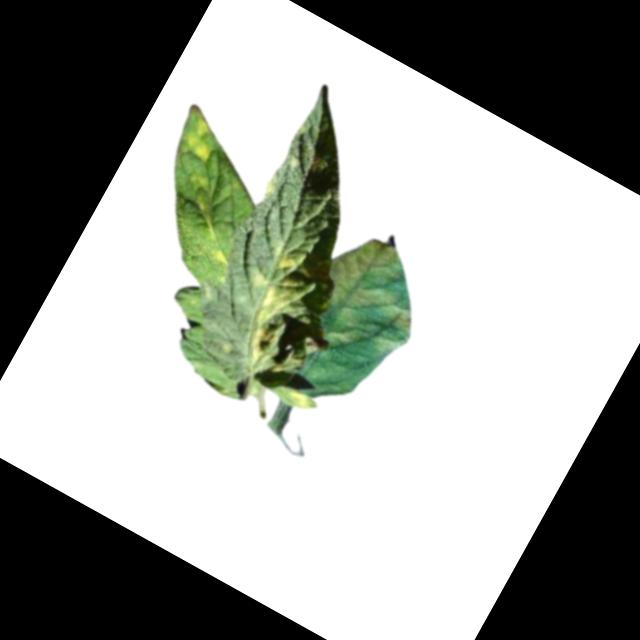Leaf_Mold: (300, 221, 444, 368), (214, 231, 332, 374), (178, 115, 224, 162)
